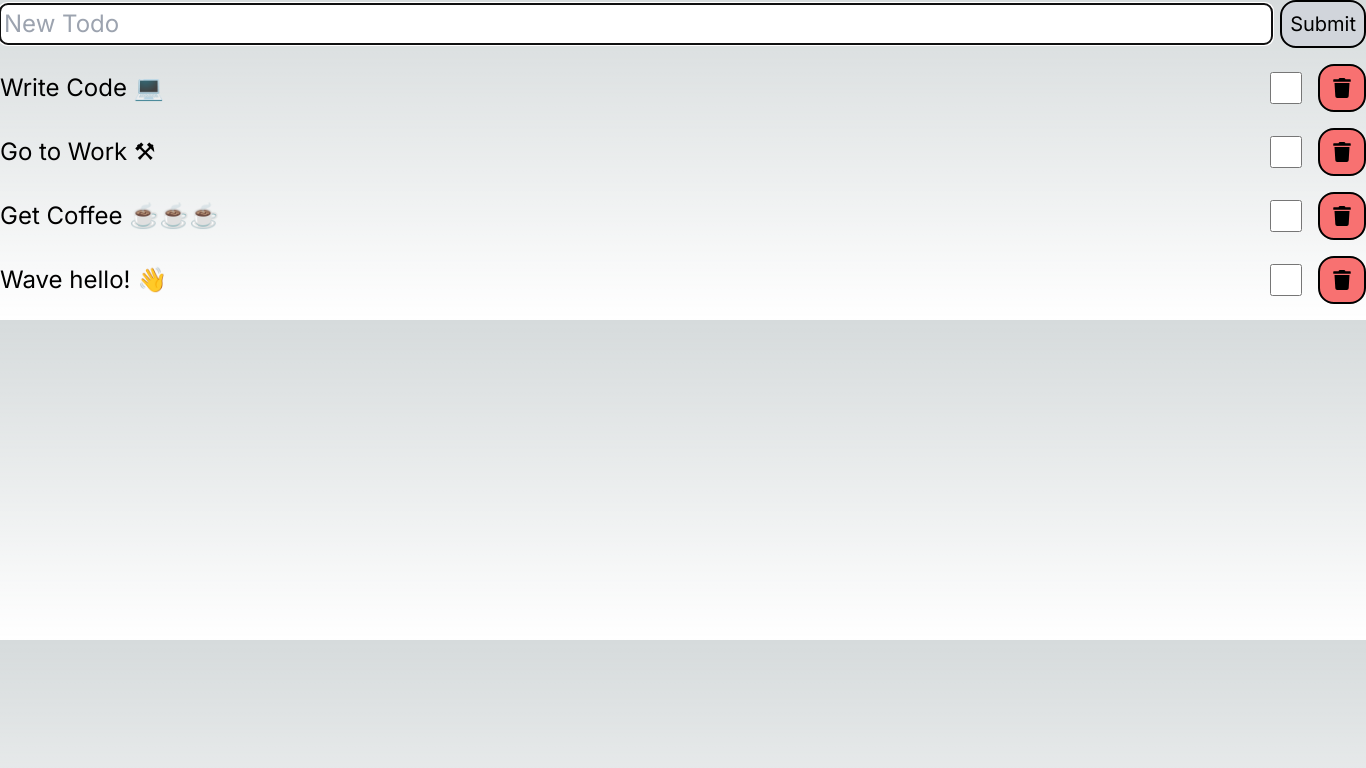
it: Home › should add a new todo
Type "My new todo" into the field with placeholder "New Todo" at (636, 24), box [0,4,1272,44]
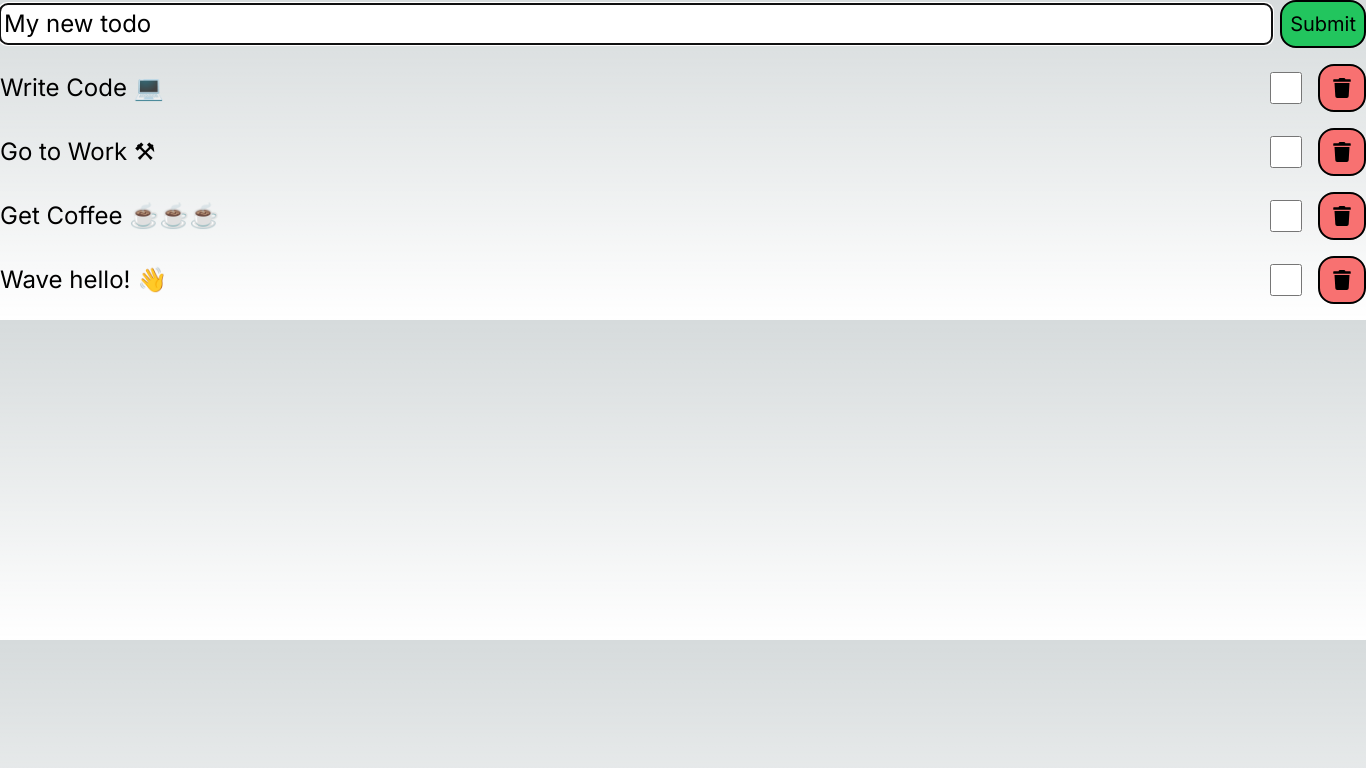
Click the button "Submit" at (1323, 24), box [1280,0,1365,48]
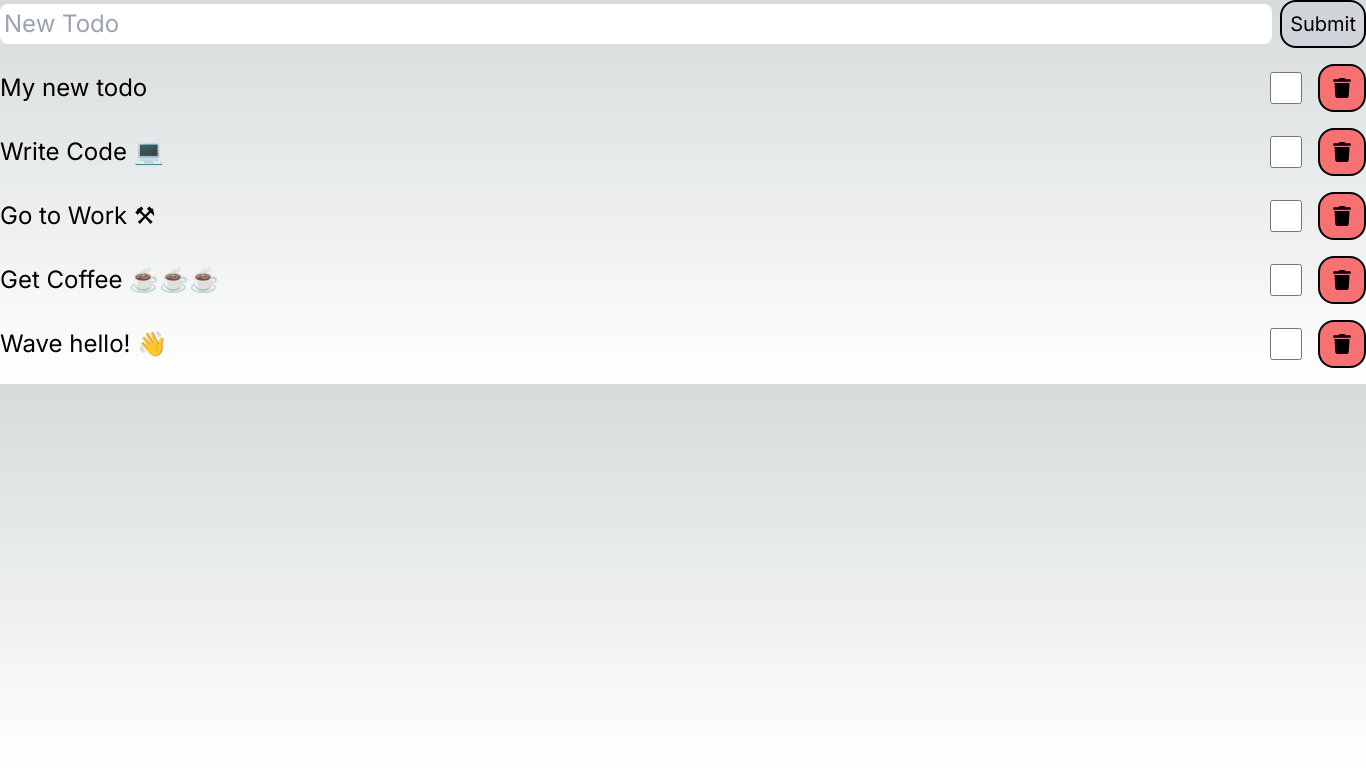
Expected: the field with placeholder "New Todo" is empty, [0,4,1272,44]
Expected: the text "My new todo" is shown, [0,72,147,104]
